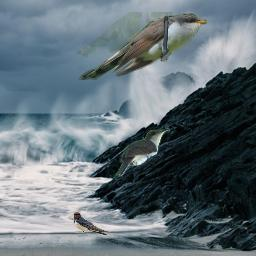Cuckoo: (77, 12, 207, 80), (116, 128, 170, 177)
Swallow: (73, 211, 118, 238)
